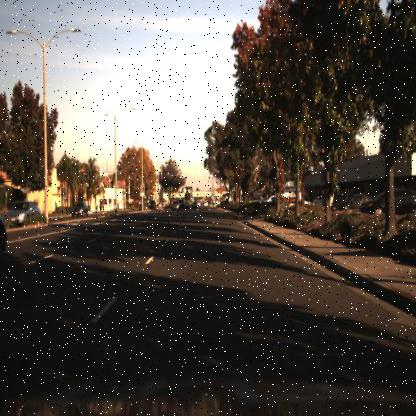car: (8, 198, 41, 226), (0, 199, 12, 267), (334, 190, 364, 214), (70, 197, 92, 224), (68, 200, 90, 221), (262, 191, 285, 206), (170, 196, 183, 212), (191, 197, 199, 211)
